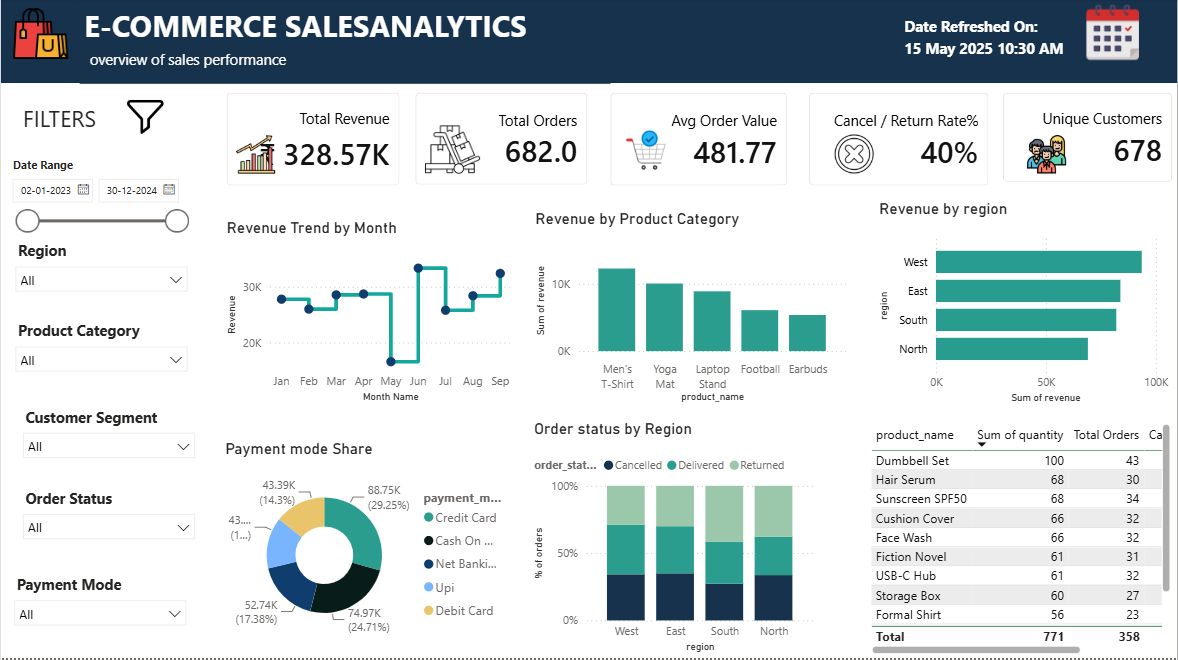

The page's visual inventory and layout, read from the dashboard file:
{"tool":"powerbi","page":{"name":"Page 1","canvas":[1280,720],"ordinal":0},"visuals":[{"type":"textbox","box":[9.6,0,584.6,79.6],"z":0},{"type":"cardVisual","fields":{"Data":["Blank Table.Total Revenue"]},"box":[240.8,99.3,198.6,111.6],"z":0,"group":"g3"},{"type":"shape","box":[0,0,1280.3,93.9],"z":1000},{"type":"cardVisual","fields":{"Data":["Blank Table.Total Orders"]},"box":[446,99.9,197.3,110.2],"z":1000,"group":"g3"},{"type":"textbox","box":[86.2,4.2,578,90.4],"z":2000},{"type":"cardVisual","fields":{"Data":["Blank Table.AVERAGE ORDER VALUE"]},"box":[658.3,99.9,202.7,111.6],"z":2000,"group":"g3"},{"type":"textbox","box":[977.9,8.5,195,74.9],"z":3000},{"type":"cardVisual","fields":{"Data":["Blank Table.Cancellation/Return Rate %"]},"box":[874.6,99.9,205.4,111.6],"z":3000,"group":"g3"},{"type":"cardVisual","fields":{"Data":["Blank Table.Unique Customers"]},"box":[1085.5,99.9,194.6,107.5],"z":4000,"group":"g3"},{"type":"lineChart","title":"Revenue Trend by Month","fields":{"Category":["ecommerce_project ecommerce_sales_clean.Month Name"],"Y":["Sum(ecommerce_project ecommerce_sales_clean.revenue)"]},"box":[241.2,241.1,319.7,205.4],"z":4000,"group":"g4"},{"type":"image","box":[253.3,144.3,47.6,54.4],"z":5000,"group":"g3"},{"type":"columnChart","title":"Revenue by Product Category","fields":{"Category":["ecommerce_project ecommerce_sales_clean.product_name"],"Y":["Sum(ecommerce_project ecommerce_sales_clean.revenue)"]},"box":[577,231.6,348.3,215],"z":5000,"group":"g4"},{"type":"image","box":[460.1,135.6,62.6,59.9],"z":6000,"group":"g3"},{"type":"donutChart","title":"Payment mode Share","fields":{"Category":["ecommerce_project ecommerce_sales_clean.payment_mode"],"Y":["Sum(ecommerce_project ecommerce_sales_clean.revenue)"]},"box":[239.5,482.2,318.4,221.8],"z":6000,"group":"g5"},{"type":"image","box":[1113.2,149.2,50.3,43.5],"z":7000,"group":"g3"},{"type":"tableEx","fields":{"Values":["ecommerce_project ecommerce_sales_clean.product_name","Sum(ecommerce_project ecommerce_sales_clean.quantity)","Blank Table.Total Orders","Blank Table.Cancel/Return Rate %"]},"box":[940.9,459.9,336.3,260],"z":7000,"group":"g5"},{"type":"hundredPercentStackedColumnChart","title":"Order status by Region","fields":{"Category":["ecommerce_project ecommerce_sales_clean.region"],"Series":["ecommerce_project ecommerce_sales_clean.order_status"],"Y":["Count(ecommerce_project ecommerce_sales_clean.order_id)"]},"box":[575.6,460.4,314.3,258.5],"z":8000,"group":"g5"},{"type":"image","box":[0,8.5,86.2,63.6],"z":9000},{"type":"textbox","box":[18.4,111.8,114.5,43.8],"z":9000,"group":"g1"},{"type":"slicer","fields":{"Values":["ecommerce_project ecommerce_sales_clean.region"]},"box":[5.4,259.9,207.7,81.9],"z":9000,"group":"g2"},{"type":"image","box":[1158.8,7.1,101.7,63.6],"z":10000},{"type":"slicer","fields":{"Values":["ecommerce_project ecommerce_sales_clean.order_date"]},"box":[0,170.1,212.2,89.8],"z":10000,"group":"g2"},{"type":"group","id":"g1","title":"Group 1","box":[18.4,106,171,49.5],"z":11000},{"type":"slicer","fields":{"Values":["ecommerce_project ecommerce_sales_clean.product_category"]},"box":[5.4,347,207.7,81.9],"z":11000,"group":"g2"},{"type":"clusteredBarChart","title":"Revenue by region","fields":{"Category":["ecommerce_project ecommerce_sales_clean.region"],"Y":["Sum(ecommerce_project ecommerce_sales_clean.revenue)"]},"box":[951.2,220.7,325.2,227.2],"z":12000,"group":"g4"},{"type":"slicer","fields":{"Values":["ecommerce_project ecommerce_sales_clean.customer_segment"]},"box":[13.6,440.8,207.7,81.9],"z":12000,"group":"g2"},{"type":"group","id":"g2","title":"Group 2","box":[0,170.1,221.3,535],"z":13000},{"type":"slicer","fields":{"Values":["ecommerce_project ecommerce_sales_clean.payment_mode"]},"box":[4.1,623.2,207.7,81.9],"z":13000,"group":"g2"},{"type":"group","id":"g3","title":"Group 3","box":[240.8,99.3,1039.2,112.2],"z":14000},{"type":"slicer","fields":{"Values":["ecommerce_project ecommerce_sales_clean.order_status"]},"box":[13.6,529.2,207.7,81.9],"z":14000,"group":"g2"},{"type":"image","box":[663.9,141.5,76.2,50.3],"z":15000},{"type":"image","box":[903.4,149.7,50.3,42.2],"z":16000},{"type":"group","id":"g4","title":"Group 4","box":[241.2,220.7,1035.2,227.2],"z":16001},{"type":"group","id":"g5","title":"Group 5","box":[239.5,459.9,1038.1,259.9],"z":16002},{"type":"image","box":[123.2,106,66.4,46.6],"z":22002,"group":"g1"}]}

Visuals, with their boxes in screenshot pixels (x1, y1, x2, y2), scaled from the page's 1280x720 canvas onto the 1178x660 screenshot:
textbox: select_region(9, 0, 547, 73)
cardVisual - Blank Table.Total Revenue: select_region(222, 91, 404, 193)
shape: select_region(0, 0, 1177, 86)
cardVisual - Blank Table.Total Orders: select_region(410, 92, 592, 193)
textbox: select_region(79, 4, 611, 87)
cardVisual - Blank Table.AVERAGE ORDER VALUE: select_region(606, 92, 792, 194)
textbox: select_region(900, 8, 1079, 76)
cardVisual - Blank Table.Cancellation/Return Rate %: select_region(805, 92, 994, 194)
cardVisual - Blank Table.Unique Customers: select_region(999, 92, 1177, 190)
"Revenue Trend by Month" lineChart: select_region(222, 221, 516, 409)
image: select_region(233, 132, 277, 182)
"Revenue by Product Category" columnChart: select_region(531, 212, 852, 409)
image: select_region(423, 124, 481, 179)
"Payment mode Share" donutChart: select_region(220, 442, 513, 645)
image: select_region(1024, 137, 1071, 177)
tableEx - ecommerce_project ecommerce_sales_clean.product_name x Sum(ecommerce_project ecommerce_sales_clean.quantity): select_region(866, 422, 1175, 659)
"Order status by Region" hundredPercentStackedColumnChart: select_region(530, 422, 819, 659)
image: select_region(0, 8, 79, 66)
textbox: select_region(17, 102, 122, 143)
slicer - ecommerce_project ecommerce_sales_clean.region: select_region(5, 238, 196, 313)
image: select_region(1066, 7, 1160, 65)
slicer - ecommerce_project ecommerce_sales_clean.order_date: select_region(0, 156, 195, 238)
"Group 1" group: select_region(17, 97, 174, 143)
slicer - ecommerce_project ecommerce_sales_clean.product_category: select_region(5, 318, 196, 393)
"Revenue by region" clusteredBarChart: select_region(875, 202, 1175, 411)
slicer - ecommerce_project ecommerce_sales_clean.customer_segment: select_region(13, 404, 204, 479)
"Group 2" group: select_region(0, 156, 204, 646)
slicer - ecommerce_project ecommerce_sales_clean.payment_mode: select_region(4, 571, 195, 646)
"Group 3" group: select_region(222, 91, 1177, 194)
slicer - ecommerce_project ecommerce_sales_clean.order_status: select_region(13, 485, 204, 560)
image: select_region(611, 130, 681, 176)
image: select_region(831, 137, 878, 176)
"Group 4" group: select_region(222, 202, 1175, 411)
"Group 5" group: select_region(220, 422, 1176, 659)
image: select_region(113, 97, 174, 140)
